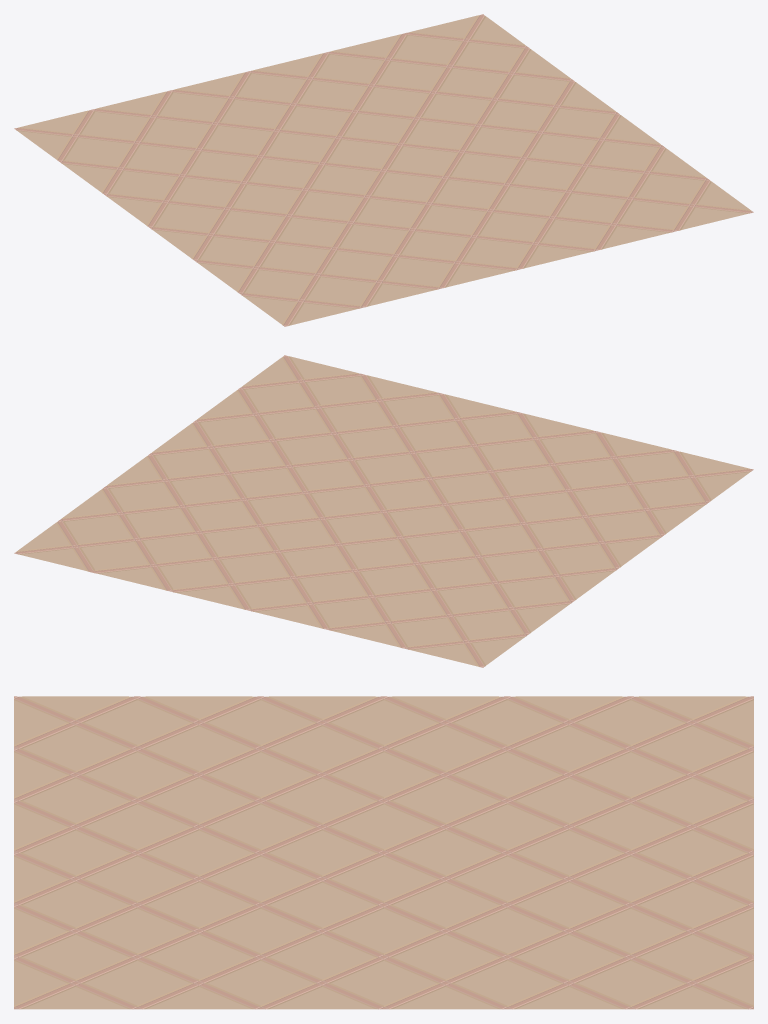
The model's file is Floor Assembled A.fbx.
3 renders of one model, top to bottom at view 1: azimuth 30°, elevation 25°; view 2: azimuth 150°, elevation 25°; view 3: azimuth 270°, elevation 25°, orthographic. The views are drawn at different scales.
Parts seen in each view (by area): view 1: Floor Assembled A; view 2: Floor Assembled A; view 3: Floor Assembled A.
Part boxes in pixels (bbox=[...]): Floor Assembled A: bbox=[14, 14, 753, 326]; Floor Assembled A: bbox=[14, 355, 753, 667]; Floor Assembled A: bbox=[14, 696, 753, 1009].
Size of the model in its own units: 9.29 by 0.00397 by 9.29.
